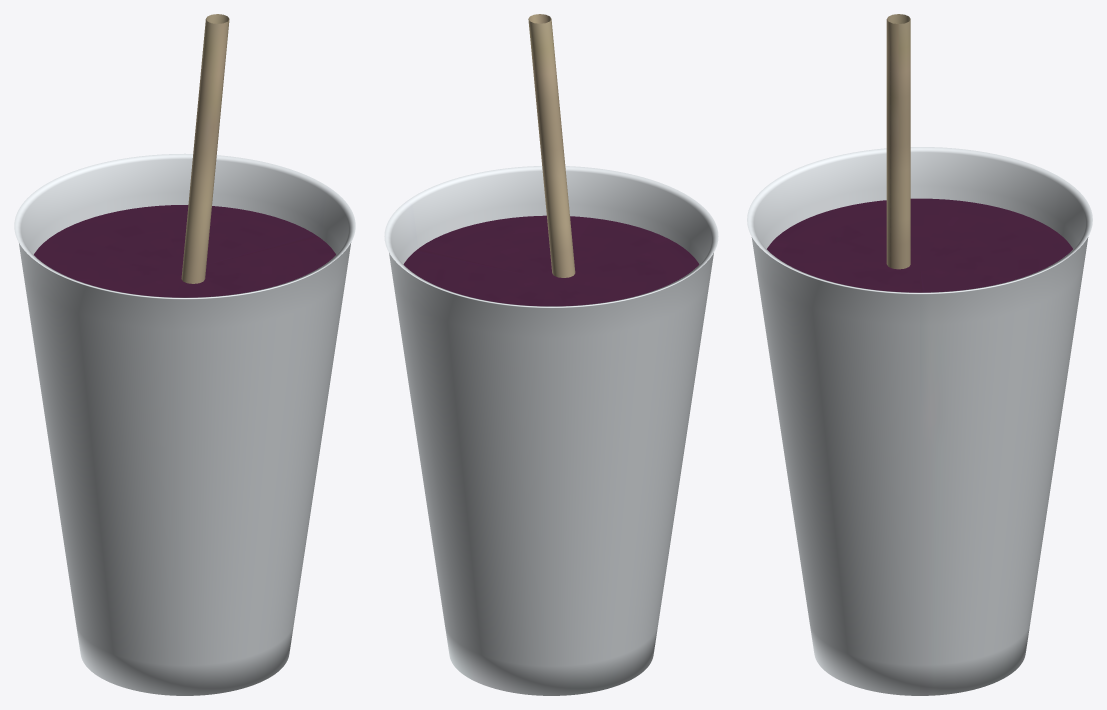
File: antioxidant-acai.glb
3 renders of one model, left to right at view 1: azimuth 30°, elevation 25°; view 2: azimuth 150°, elevation 25°; view 3: azimuth 270°, elevation 25°, orthographic. The views are drawn at different scales.
Visible parts, largest first — view 1: clear, gloss, satin; view 2: clear, gloss, satin; view 3: clear, gloss, satin.
Part boxes in pixels (box(x1,y1,x2,y2)): clear: box(14, 153, 355, 695); gloss: box(34, 205, 335, 297); satin: box(181, 14, 229, 283); clear: box(384, 166, 718, 695); gloss: box(403, 215, 699, 306); satin: box(528, 14, 575, 277); clear: box(747, 147, 1092, 695); gloss: box(767, 198, 1072, 292); satin: box(886, 14, 910, 269).
Size of the model in its own units: 0.098 by 0.201 by 0.098.
Materials: 3 (3 with a texture image).
